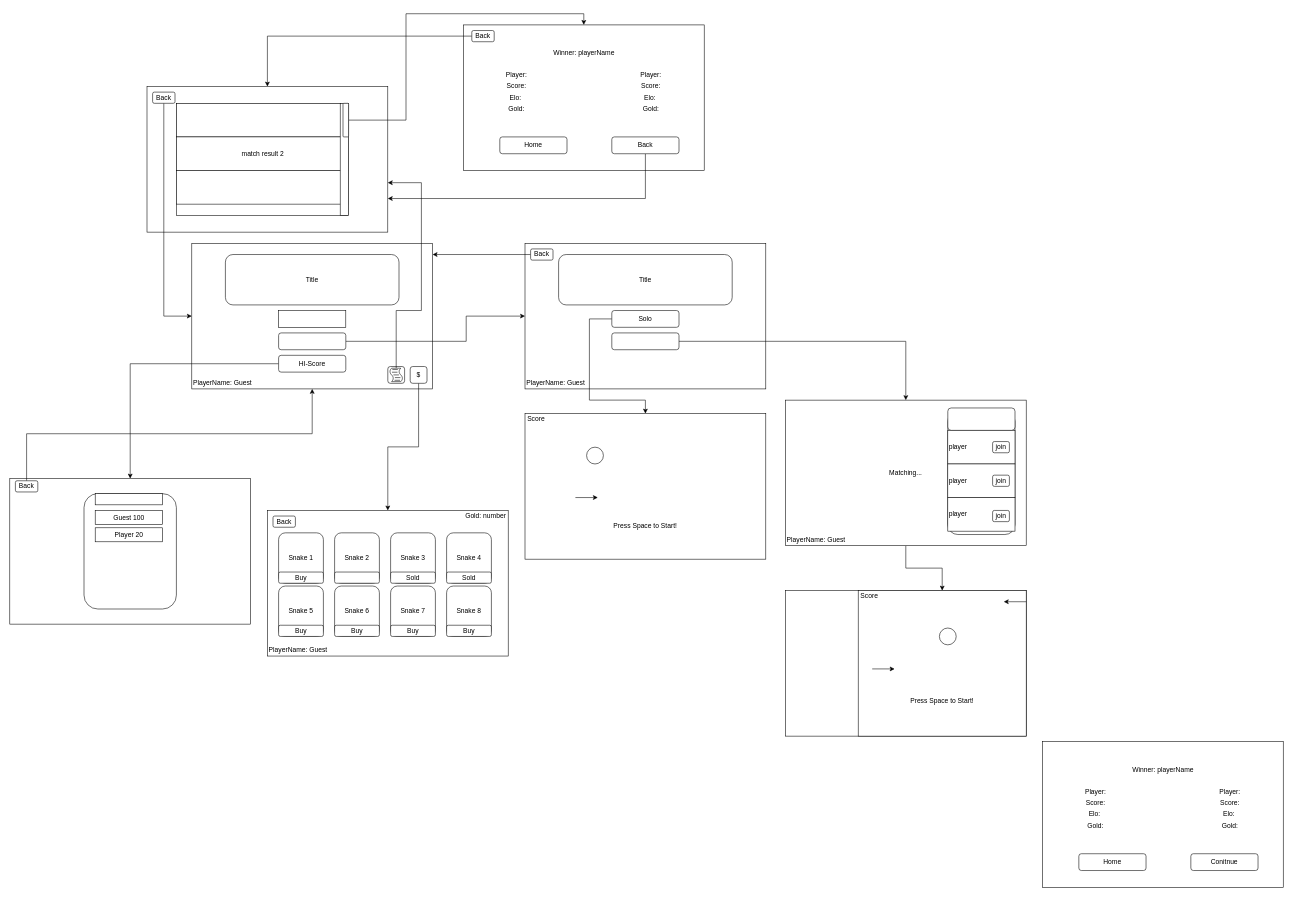
Image size: 1293x897. Some labels were removed from this diagram. The shapes that lost their labels are listed below. From the top down, each one's centre as x and y in pixels, then its label:
At (262,120): "match result 1".
At (262,187): "match result 3".
At (312,318): "Google login".
At (312,341): "Play".
At (645,341): "Multi".
At (981,418): "Rooms".
At (128,499): "Ranking".
At (356,577): "Equipped".
